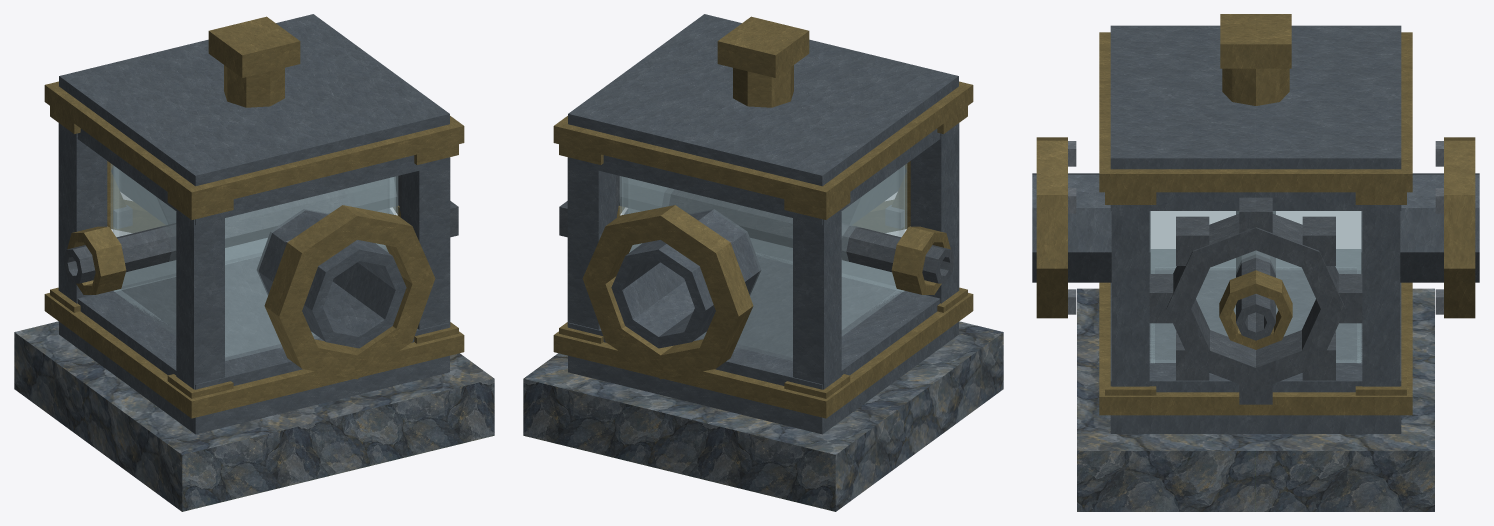
Rendered from pump.gltf.
3 renders of one model, left to right at view 1: azimuth 30°, elevation 25°; view 2: azimuth 150°, elevation 25°; view 3: azimuth 270°, elevation 25°, orthographic. The views are drawn at different scales.
Size of the model in its own units: 1 by 0.99 by 1.
6 materials, 5 textured.
